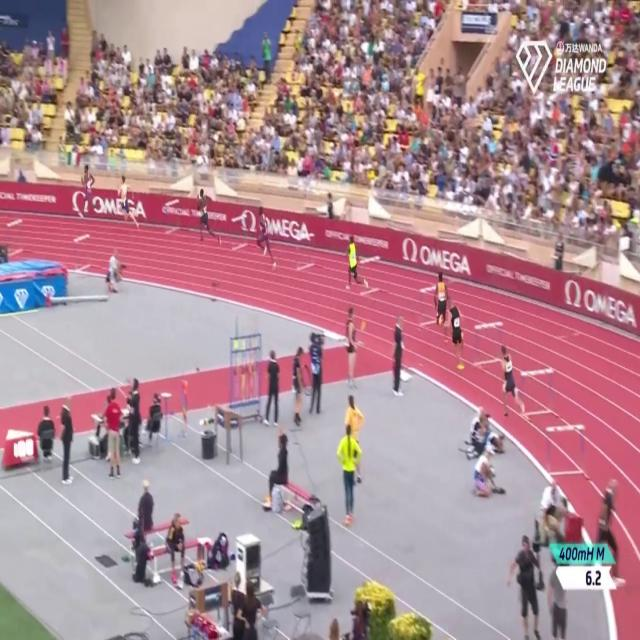athlete: (496, 338, 531, 427), (196, 186, 225, 256), (343, 231, 369, 296), (113, 173, 139, 236), (254, 203, 276, 270), (448, 298, 467, 371), (433, 268, 451, 344), (80, 160, 97, 227)
hurdle: (541, 420, 586, 475), (519, 363, 557, 415), (470, 320, 503, 364), (66, 225, 92, 275), (158, 193, 185, 241), (416, 281, 437, 332), (293, 230, 317, 274), (359, 254, 381, 301), (5, 214, 25, 262), (230, 212, 250, 255)
